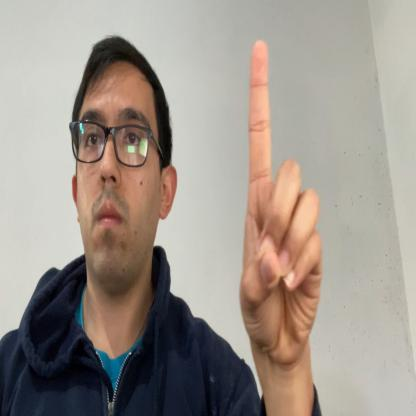D: (240, 40, 322, 366)
